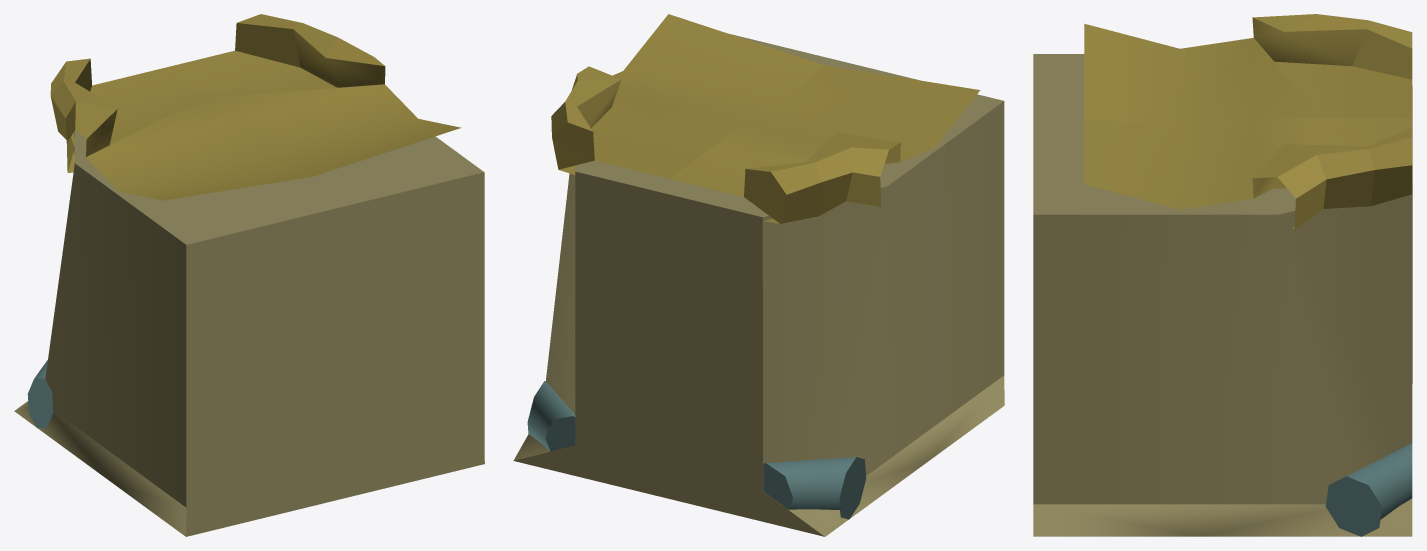
File: Int_13_Wall_Cross_connector.fbx
The picture shows the model from 3 angles, left to right: view 1: azimuth 30°, elevation 25°; view 2: azimuth 150°, elevation 25°; view 3: azimuth 270°, elevation 25°; orthographic projection. The views are drawn at different scales.
Visible parts, largest first — view 1: Int_13_Wall_Cross_connector1; view 2: Int_13_Wall_Cross_connector1; view 3: Int_13_Wall_Cross_connector1.
Boxes of the visible parts, x1,y1,x2,y2 form: Int_13_Wall_Cross_connector1: (14, 14, 484, 536); Int_13_Wall_Cross_connector1: (513, 14, 1004, 536); Int_13_Wall_Cross_connector1: (1033, 14, 1412, 536).
Size of the model in its own units: 1 by 1.08 by 0.9986.
